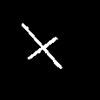single_crochet: (22, 24, 61, 68)
